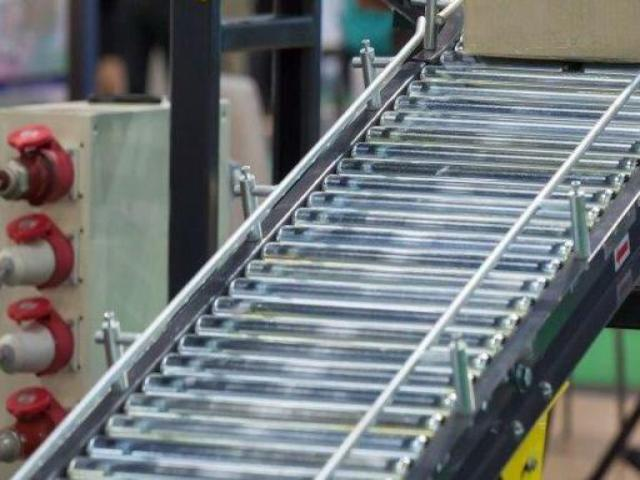conveyor: (7, 8, 640, 479)
